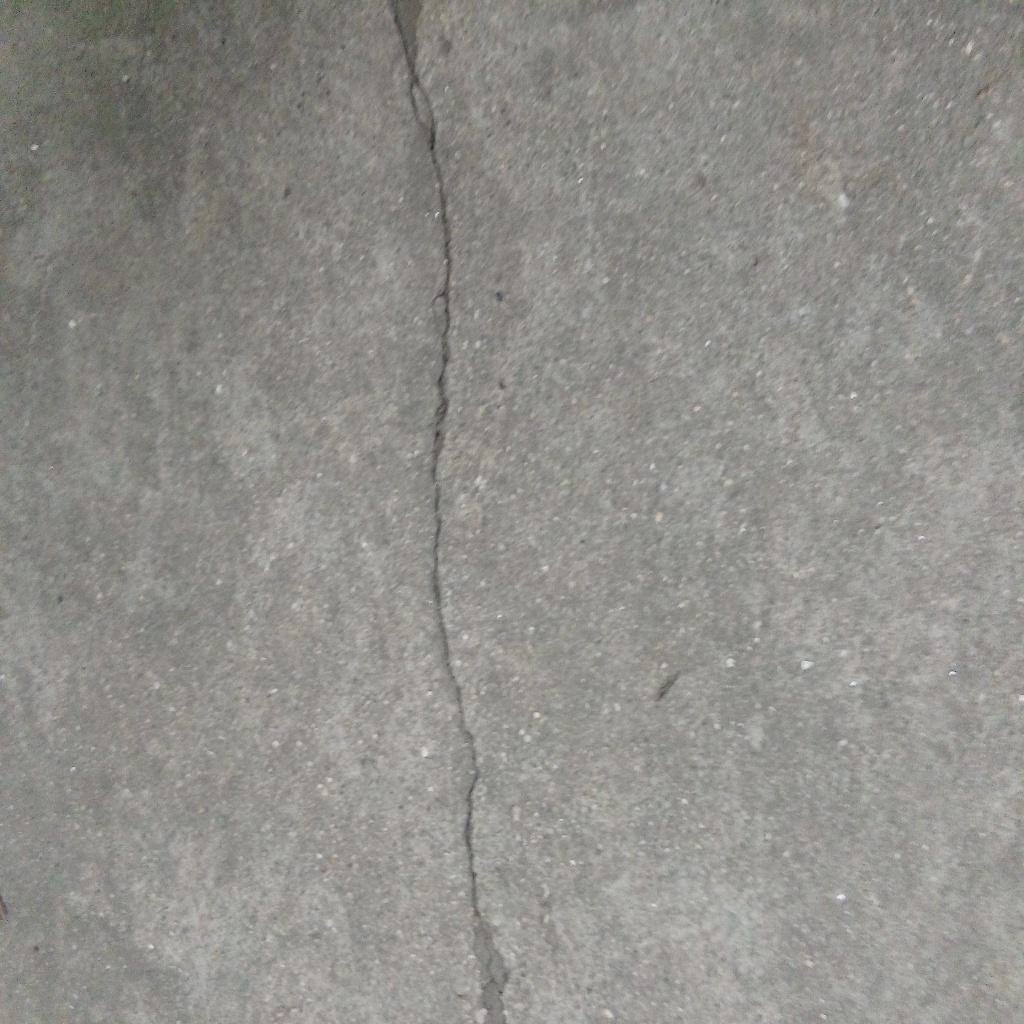Crack: (388, 1, 509, 1024)
